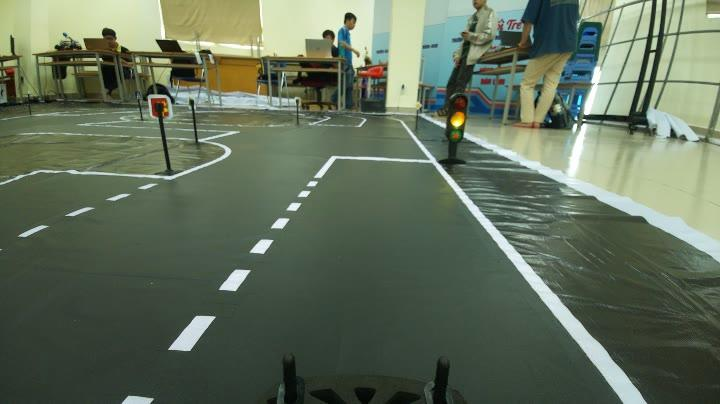trafficlight: (432, 88, 480, 169)
